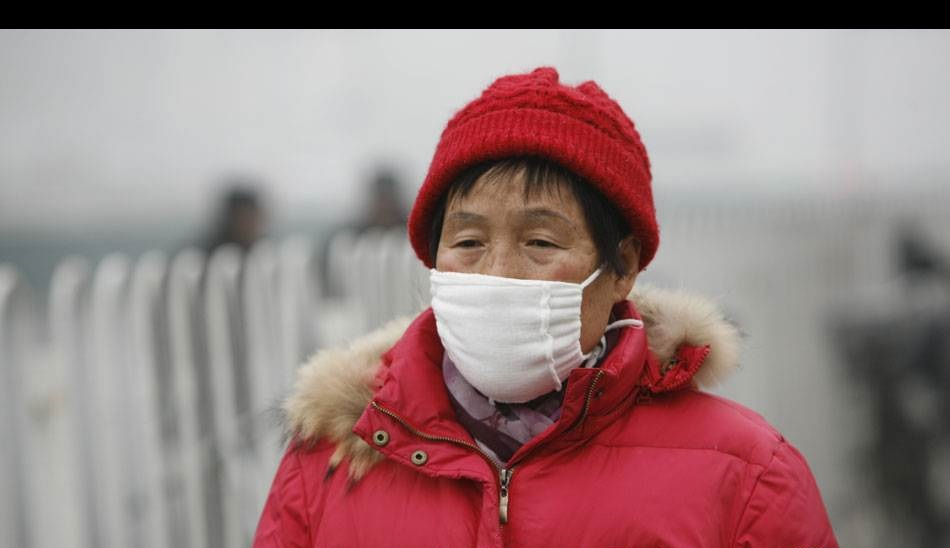face_mask: (432, 172, 602, 386)
